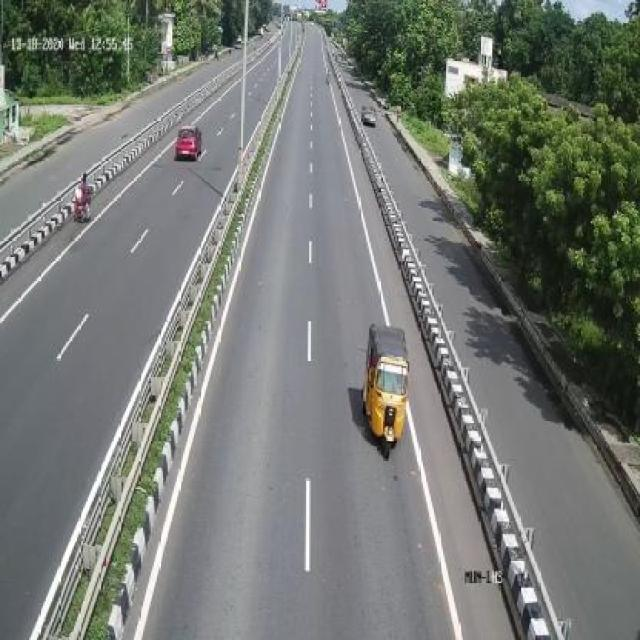car: (360, 320, 412, 449), (176, 120, 204, 165)
